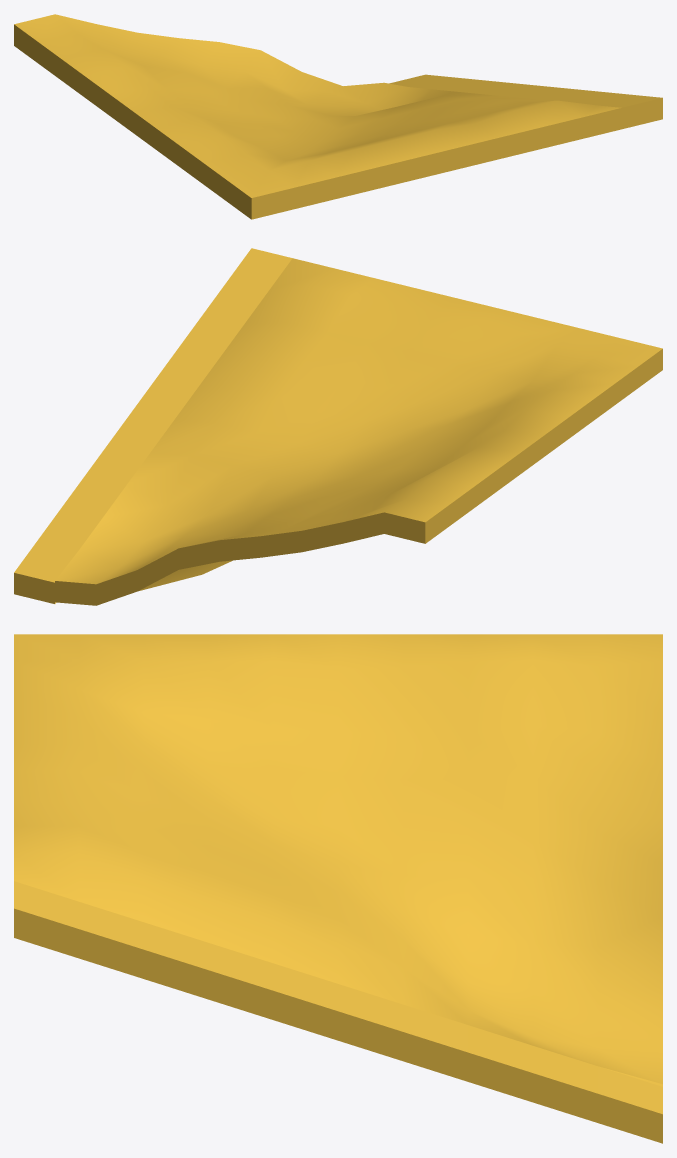
The model's file is Flach - Mitte - Ecke Invertiert x - a.fbx.
The picture shows the model from 3 angles, top to bottom: view 1: azimuth 30°, elevation 25°; view 2: azimuth 150°, elevation 25°; view 3: azimuth 270°, elevation 25°; orthographic projection. The views are drawn at different scales.
Parts seen in each view (by area): view 1: Flach - Mitte - Ecke Invertiert x - a; view 2: Flach - Mitte - Ecke Invertiert x - a; view 3: Flach - Mitte - Ecke Invertiert x - a.
Part boxes in pixels (x1,y1,x2,y2): Flach - Mitte - Ecke Invertiert x - a: [14, 14, 662, 219]; Flach - Mitte - Ecke Invertiert x - a: [14, 248, 662, 605]; Flach - Mitte - Ecke Invertiert x - a: [14, 634, 662, 1143].
Size of the model in its own units: 394 by 157 by 394.
